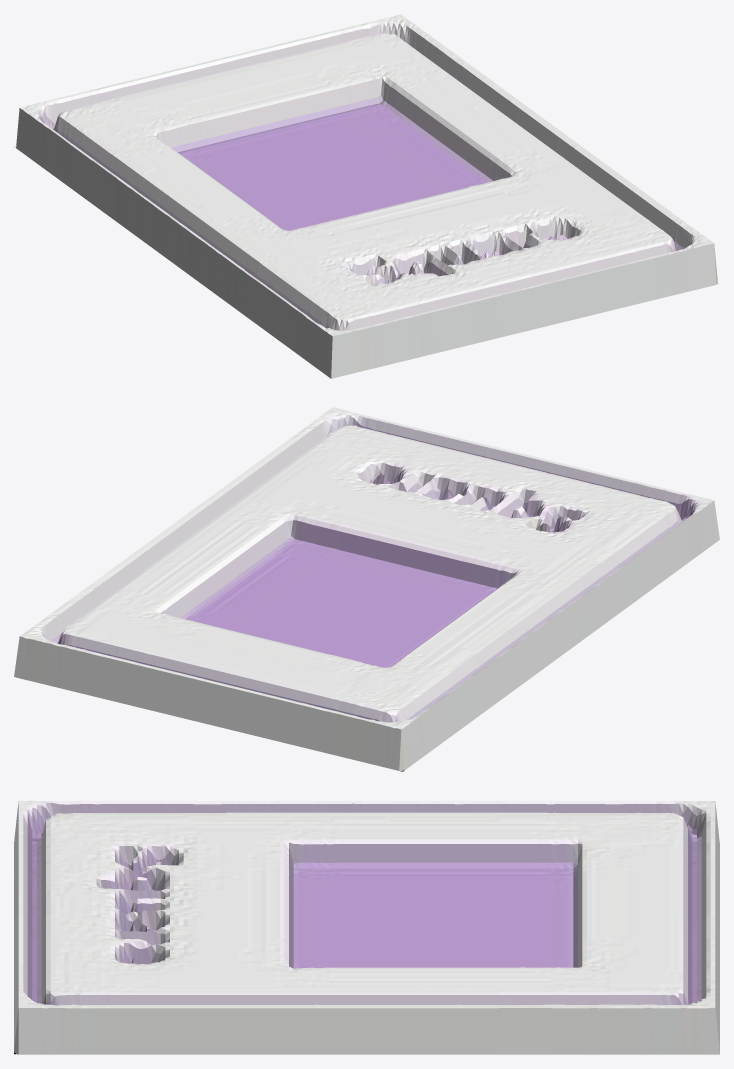
3 renders of one model, top to bottom at view 1: azimuth 30°, elevation 25°; view 2: azimuth 150°, elevation 25°; view 3: azimuth 270°, elevation 25°, orthographic. The views are drawn at different scales.
Visible parts, largest first — view 1: imagetostl_mesh0; view 2: imagetostl_mesh0; view 3: imagetostl_mesh0.
Part boxes in pixels (bbox=[...]): imagetostl_mesh0: bbox=[14, 14, 719, 378]; imagetostl_mesh0: bbox=[14, 407, 719, 771]; imagetostl_mesh0: bbox=[14, 800, 719, 1054].
Bounding box in the file's own units: 2564 × 254 × 3622.
